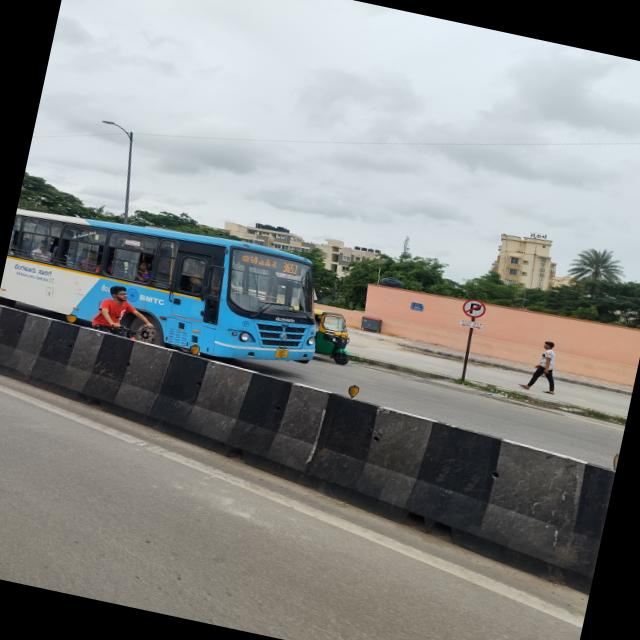bus: (0, 190, 335, 378)
